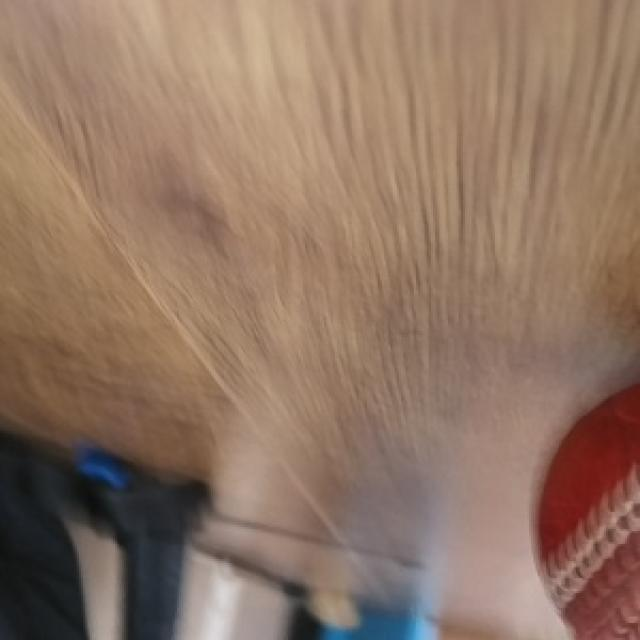ball: (535, 384, 640, 640)
